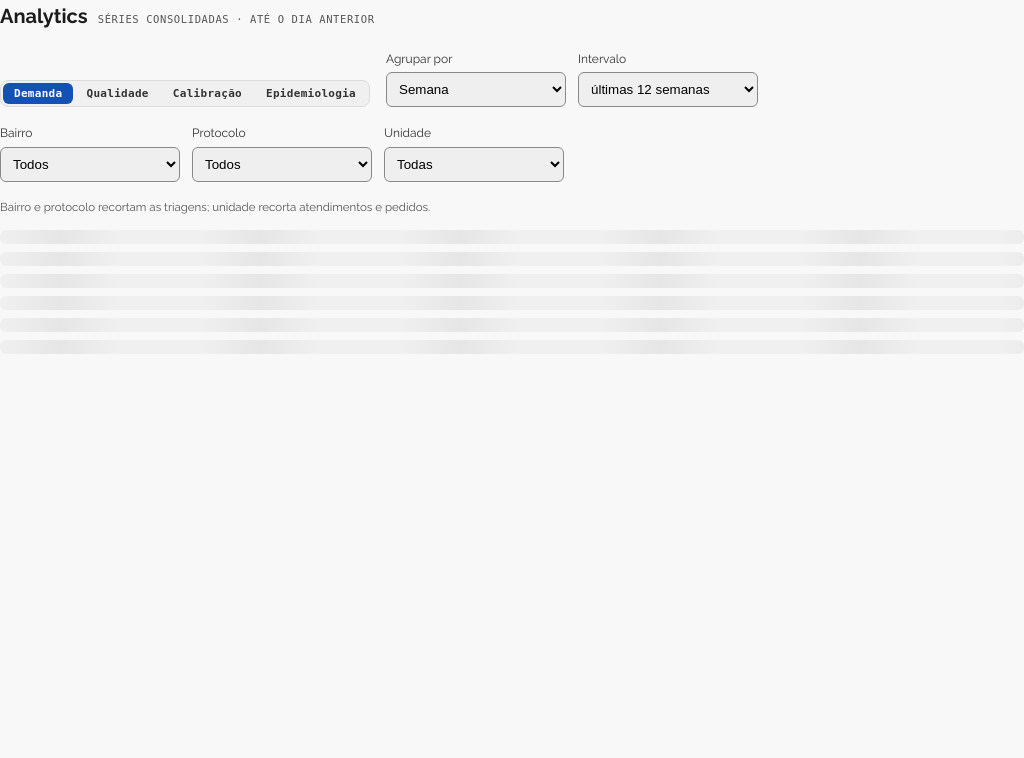
Test: Analytics › cada aba pede a sua frente
The image size is (1024, 758).
What coordinates should you click on to do the following:
click the tab "Qualidade"
I would click on:
 (118, 94)
Its box is 76,83 -> 160,104.
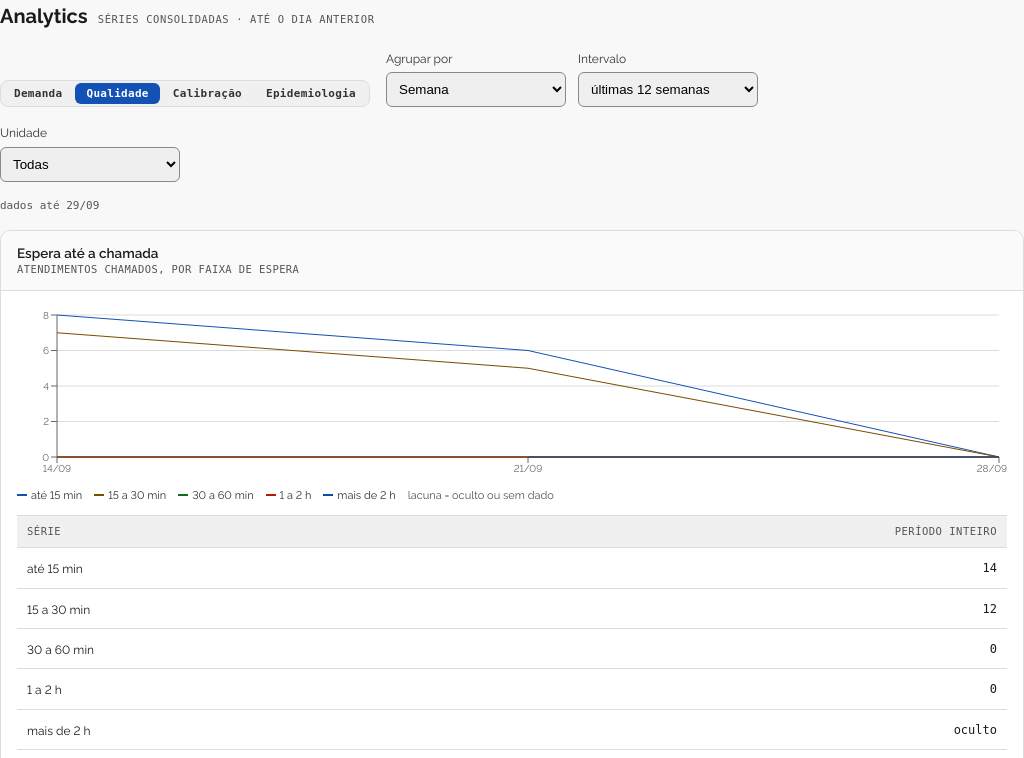
What coordinates should you click on to do the following:
click the tab "Calibração"
I would click on:
 (207, 94)
Its box is 162,83 -> 253,104.
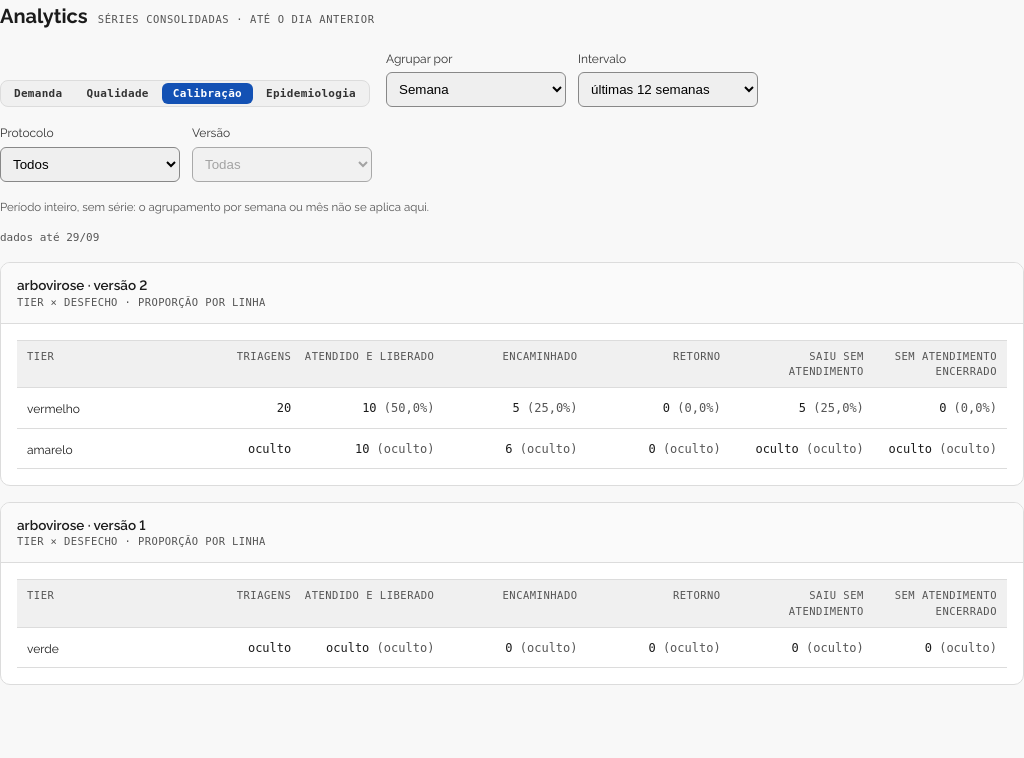
Now the element "arbovirose · versão 2" is shown, box 0,262 -> 1023,486
What coordinates should you click on to do the following:
click the tab "Epidemiologia"
I would click on:
 (311, 94)
Its box is 255,83 -> 367,104.
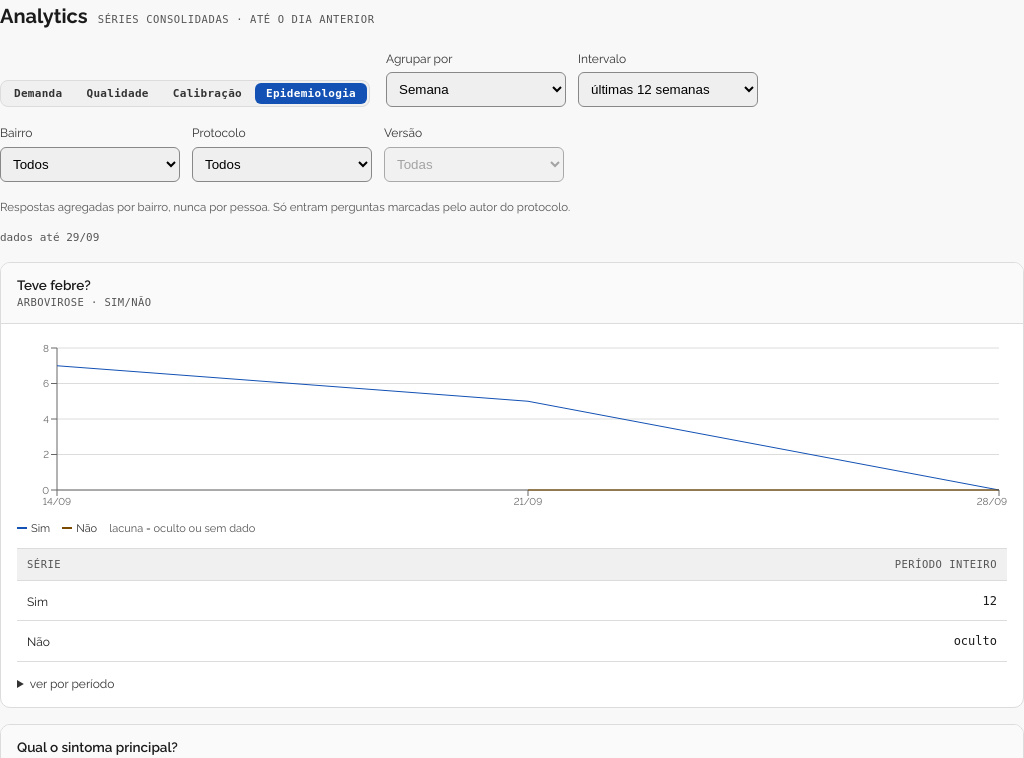
Now the element "Teve febre?" is shown, box 0,262 -> 1023,708
